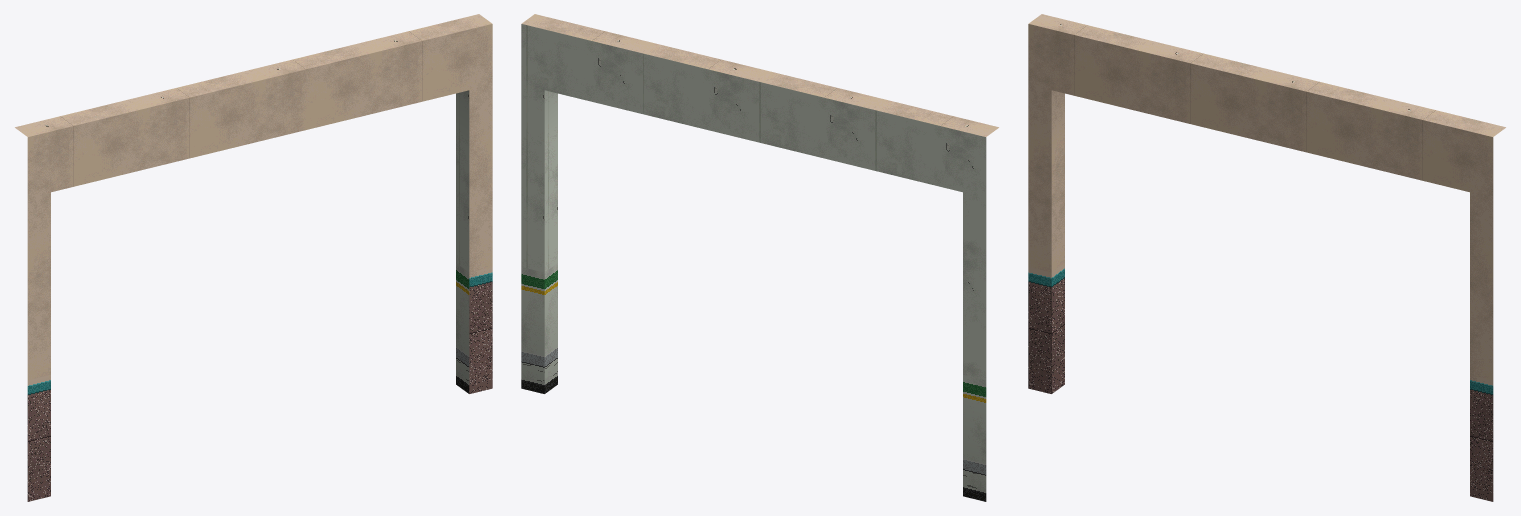
The model's file is wall_opening_market.glb.
3 views of the same model, side by side, from view 1: azimuth 30°, elevation 25°; view 2: azimuth 150°, elevation 25°; view 3: azimuth 330°, elevation 25° (orthographic).
Visible parts, largest first — view 1: wall_opening_market; view 2: wall_opening_market; view 3: wall_opening_market.
Boxes of the visible parts, x1,y1,x2,y2 form: wall_opening_market: [15, 14, 492, 501]; wall_opening_market: [521, 14, 998, 501]; wall_opening_market: [1028, 14, 1505, 501].
Bounding box in the file's own units: 4 × 3 × 0.2.
Materials: 3 (3 with a texture image).
